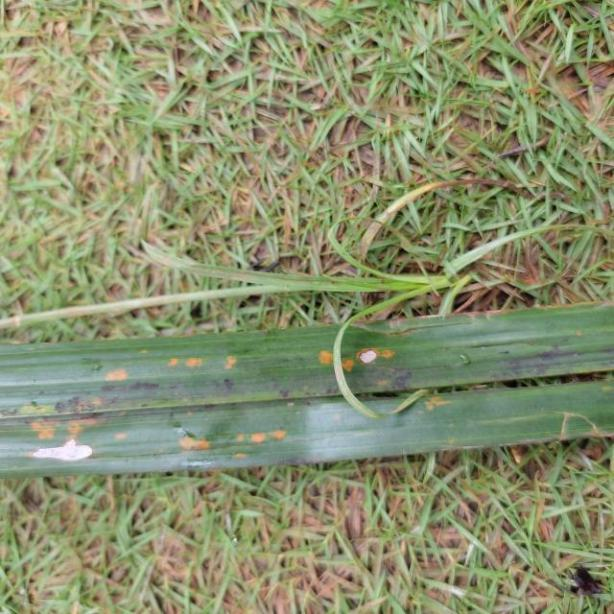Kalium: (5, 302, 614, 477)
